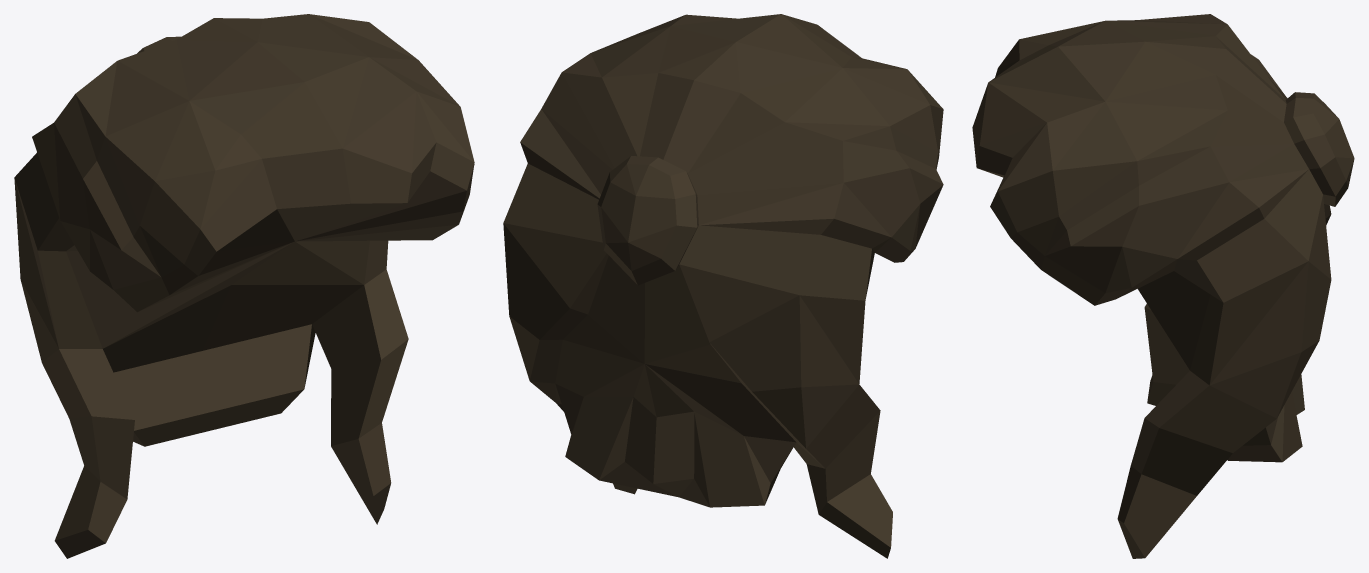
The model's file is SM_Chr_Attach_Hair_Female_05.fbx.
3 views of the same model, side by side, from view 1: azimuth 30°, elevation 25°; view 2: azimuth 150°, elevation 25°; view 3: azimuth 270°, elevation 25° (orthographic). The views are drawn at different scales.
Parts seen in each view (by area): view 1: SM_Chr_Attach_Hair_Female_05; view 2: SM_Chr_Attach_Hair_Female_05; view 3: SM_Chr_Attach_Hair_Female_05.
Boxes of the visible parts, x1,y1,x2,y2 form: SM_Chr_Attach_Hair_Female_05: [14, 14, 474, 558]; SM_Chr_Attach_Hair_Female_05: [503, 14, 943, 558]; SM_Chr_Attach_Hair_Female_05: [972, 14, 1354, 558].
Bounding box in the file's own units: 26.1 × 34.74 × 25.79.
